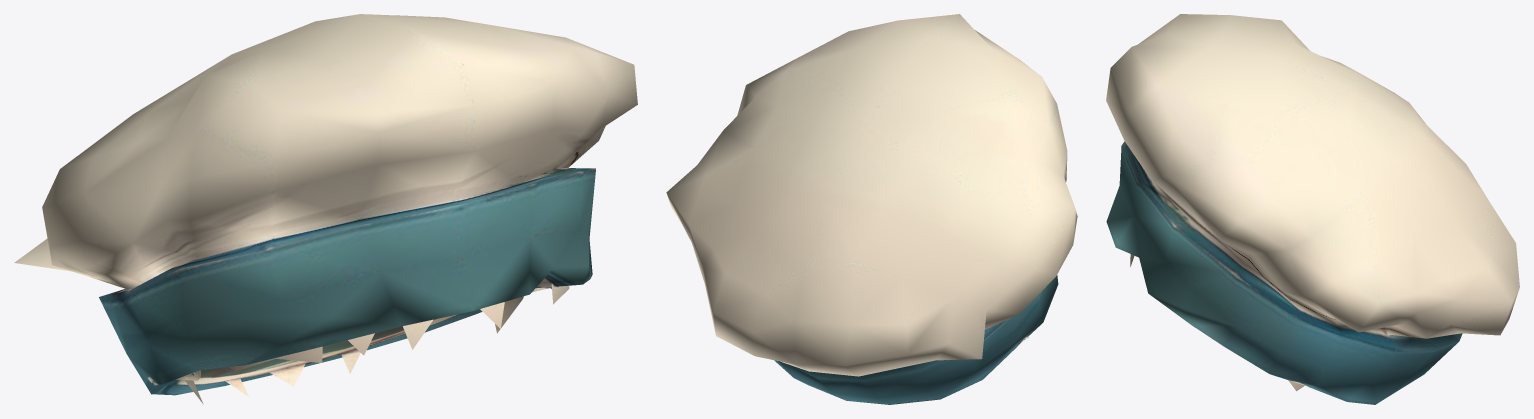
Rendered from travel_cap.glb.
3 views of the same model, side by side, from view 1: azimuth 30°, elevation 25°; view 2: azimuth 150°, elevation 25°; view 3: azimuth 270°, elevation 25° (orthographic). The views are drawn at different scales.
Visible parts, largest first — view 1: Mesh_0; view 2: Mesh_0; view 3: Mesh_0.
Boxes of the visible parts, box(x1,y1,x2,y2) form: Mesh_0: box(14, 14, 637, 404); Mesh_0: box(666, 14, 1077, 404); Mesh_0: box(1106, 14, 1519, 404).
Bounding box in the file's own units: 0.3815 × 0.2905 × 0.3257.
1 material, 1 textured.
